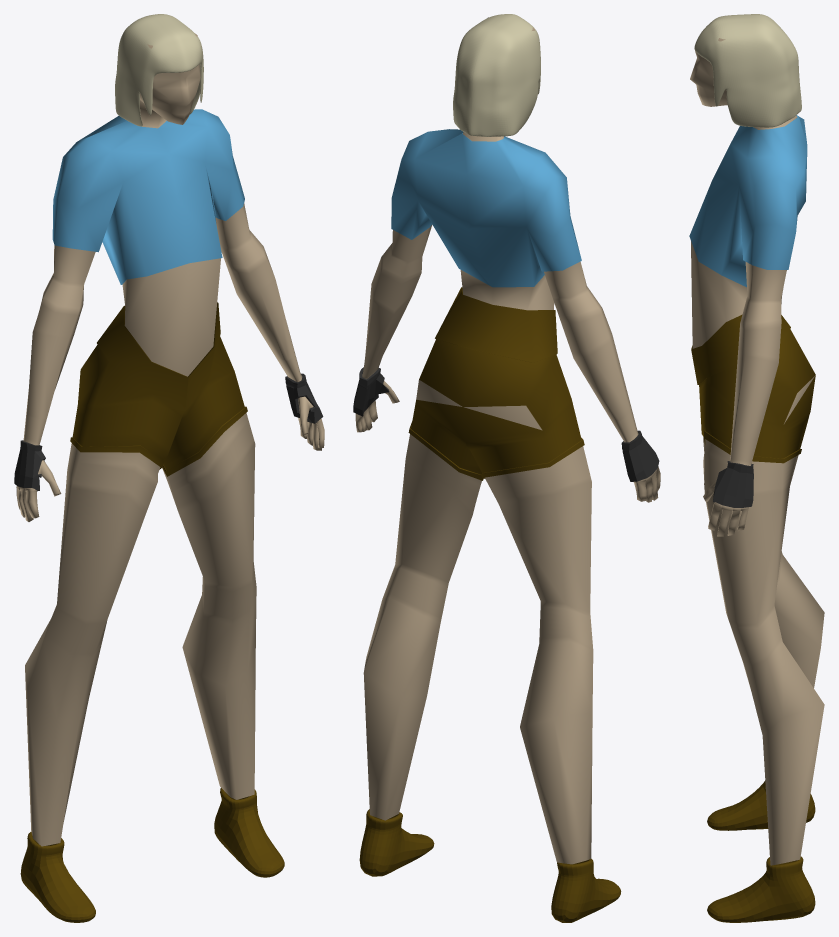
File: Makia_001.fbx
3 renders of one model, left to right at view 1: azimuth 30°, elevation 25°; view 2: azimuth 150°, elevation 25°; view 3: azimuth 270°, elevation 25°, orthographic.
Visible parts, largest first — view 1: makia_2_3:Mesh; view 2: makia_2_3:Mesh; view 3: makia_2_3:Mesh.
Part boxes in pixels (x1,y1,x2,y2): makia_2_3:Mesh: [14, 14, 324, 922]; makia_2_3:Mesh: [353, 14, 660, 922]; makia_2_3:Mesh: [689, 14, 824, 922].
Size of the model in its own units: 1.14 by 3.18 by 0.4564.
